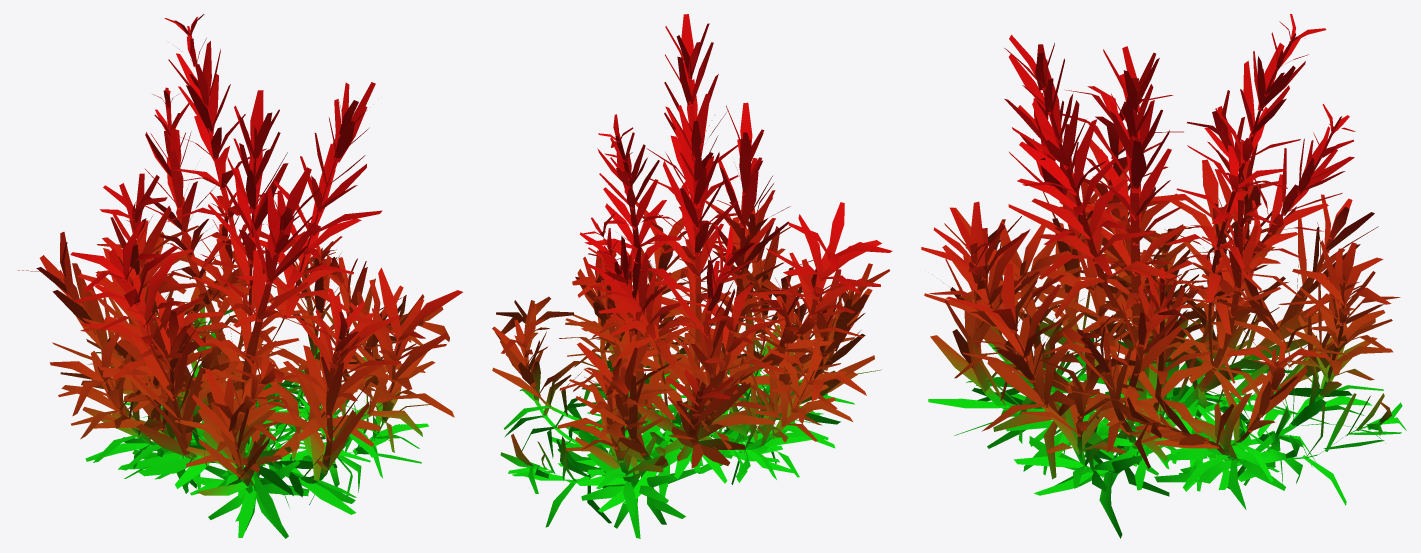
Rendered from Var4_LOD3.fbx.
3 renders of one model, left to right at view 1: azimuth 30°, elevation 25°; view 2: azimuth 150°, elevation 25°; view 3: azimuth 270°, elevation 25°, orthographic. The views are drawn at different scales.
Visible parts, largest first — view 1: _ku66_Var4_LOD3; view 2: _ku66_Var4_LOD3; view 3: _ku66_Var4_LOD3.
Part boxes in pixels (left/top/right/bottom): _ku66_Var4_LOD3: left=18, top=14, right=462, bottom=538; _ku66_Var4_LOD3: left=492, top=14, right=892, bottom=538; _ku66_Var4_LOD3: left=921, top=14, right=1406, bottom=538.
Size of the model in its own units: 29.16 by 32.01 by 29.17.
